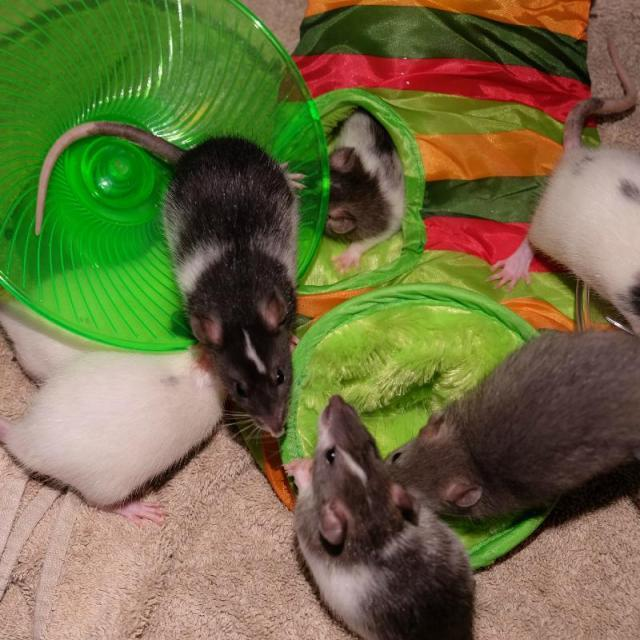rat: (34, 117, 306, 441), (386, 331, 640, 525), (279, 394, 476, 640), (490, 38, 640, 340), (0, 349, 233, 529), (0, 244, 192, 387), (306, 108, 409, 271)
